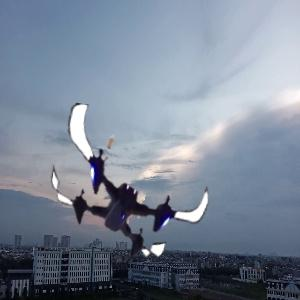drone: (47, 112, 214, 279)
